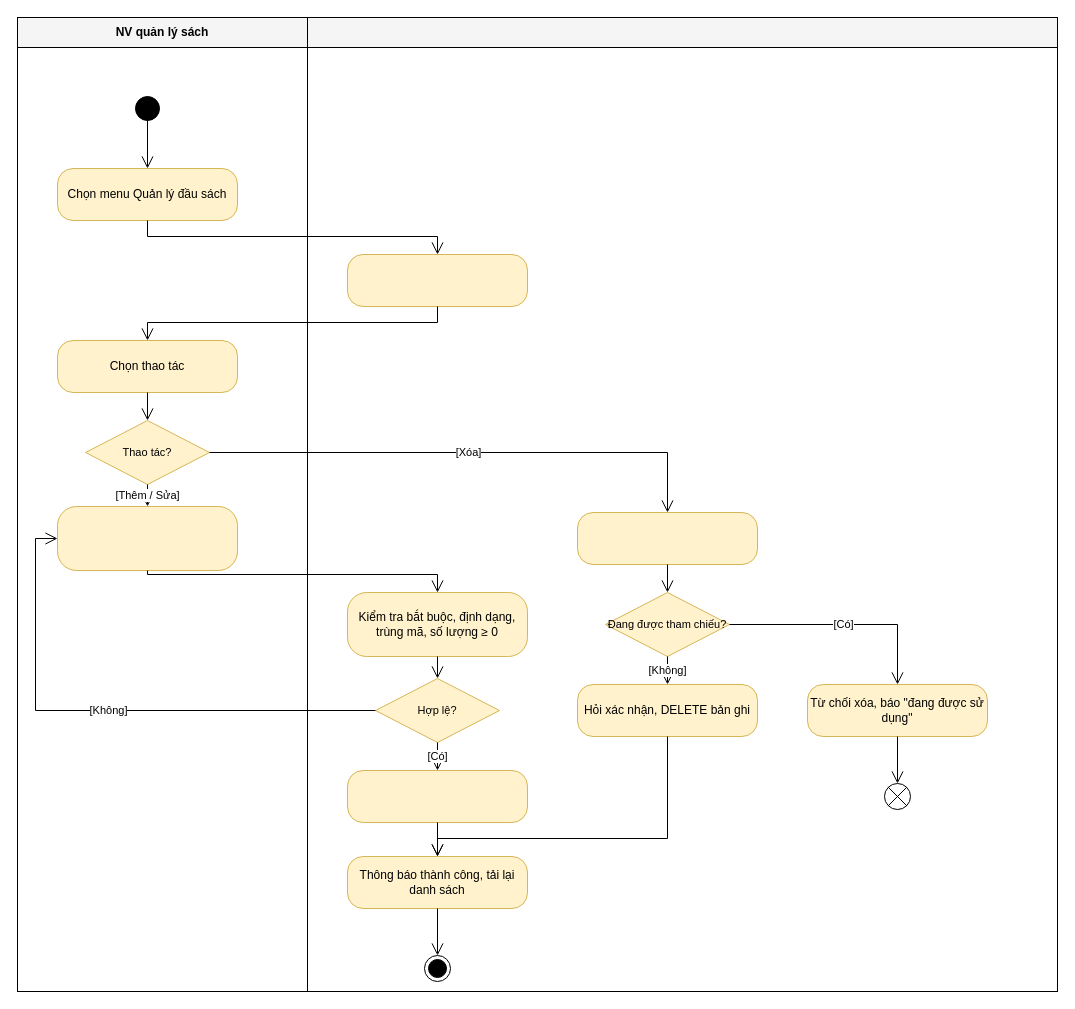
Image size: 1075x1009. Some labels were removed from this diagram. Here are the shapes that lost their labels. From the top down, the box of each, then its label:
(306, 16, 1058, 48): Hệ thống
(346, 254, 528, 306): Hiển thị danh sách đầu sách và form nhập
(56, 506, 238, 570): Nhập / sửa mã, tên, năm XB, số lượng, thể loại, NXB, nhấn Lưu
(576, 512, 758, 564): Kiểm tra đầu sách đã có trong phiếu mượn
(346, 770, 528, 822): INSERT / UPDATE vào SQL Server
